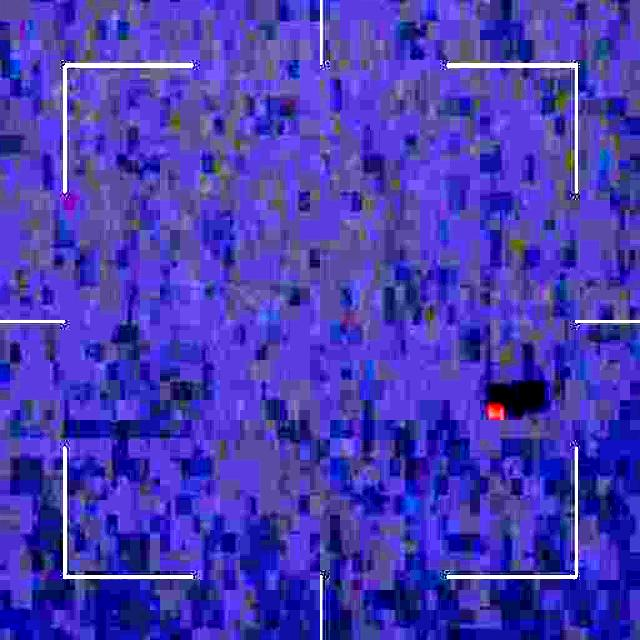bird: (476, 386, 508, 429)
